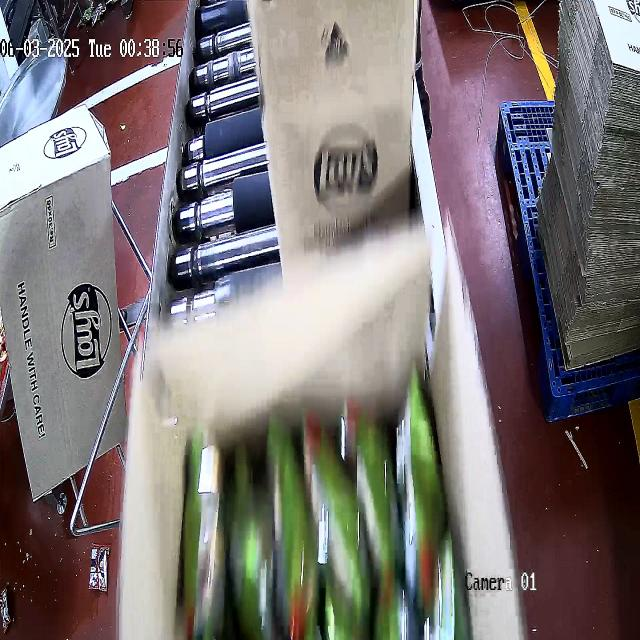YOGURT_HERB: (179, 427, 470, 640)
